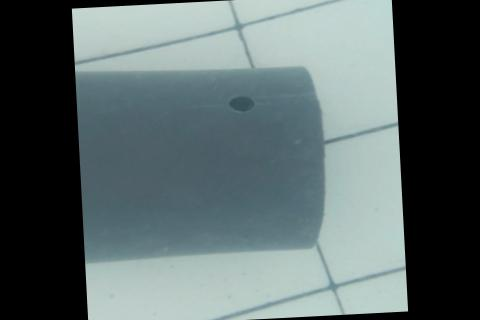kebocoran: (227, 94, 258, 114)
